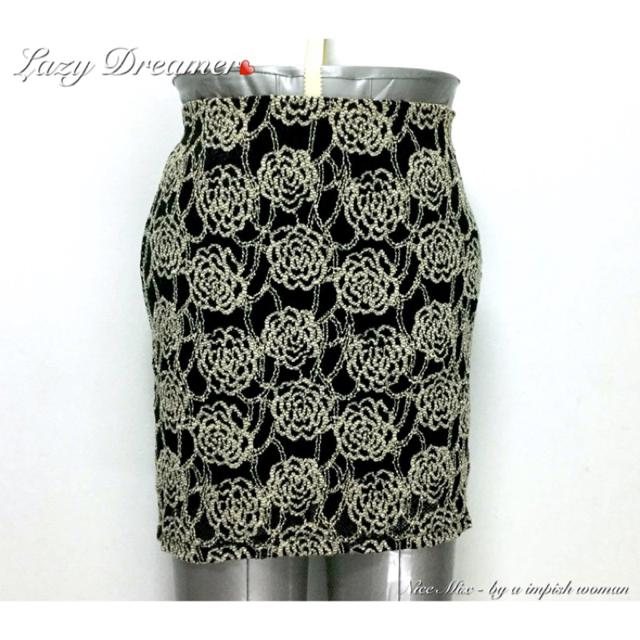Skirts: (140, 97, 485, 563)
